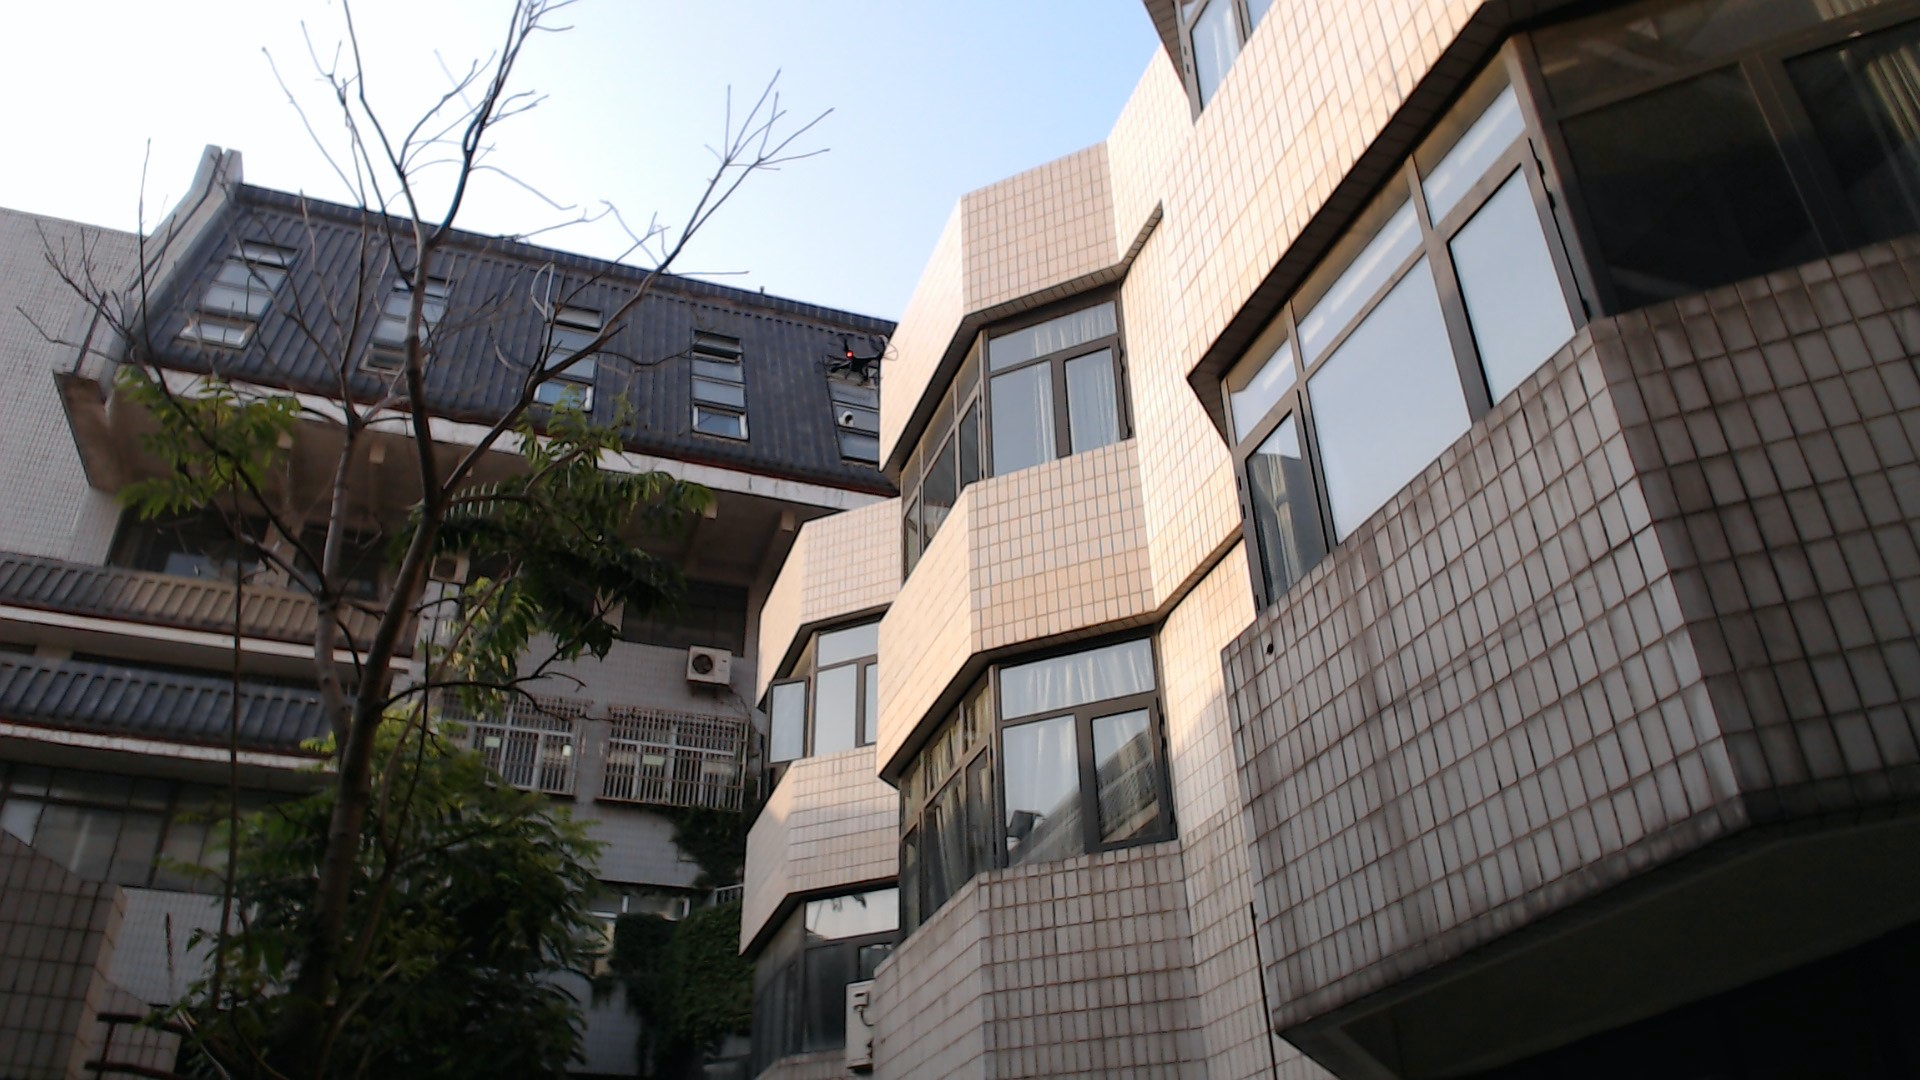drone: (800, 302, 935, 417)
